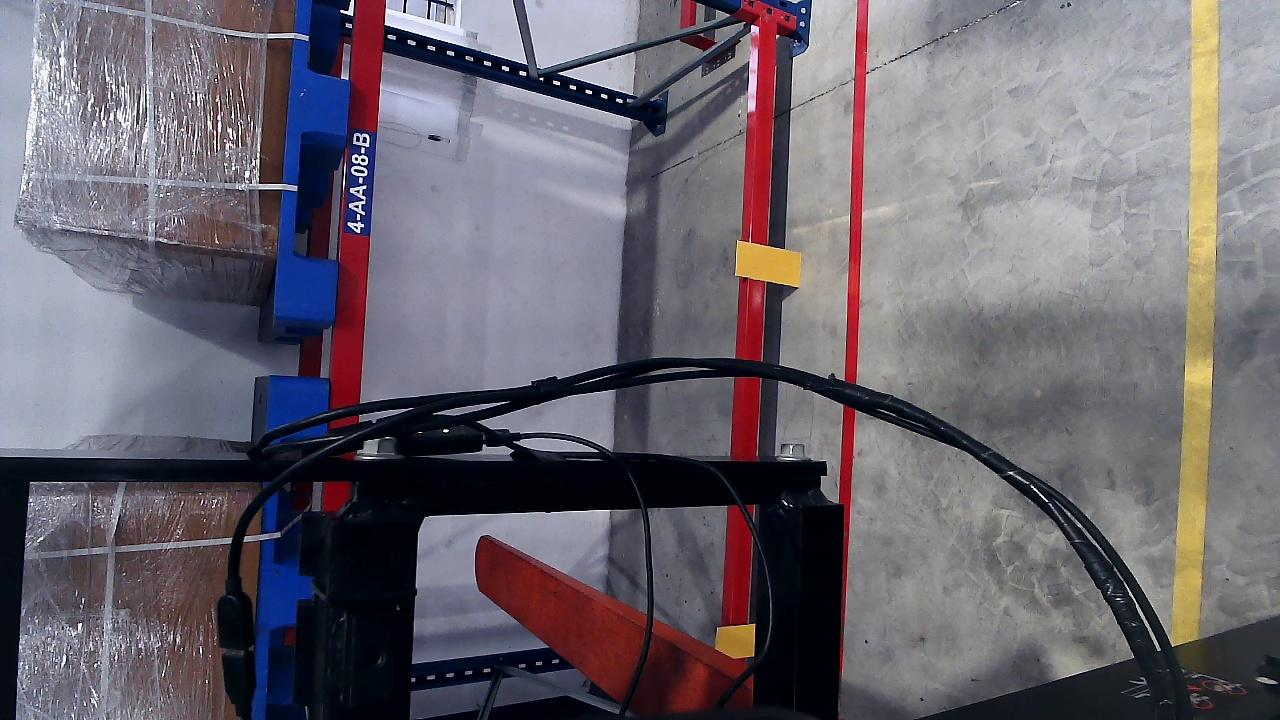h_rack: (328, 0, 389, 409), (743, 16, 780, 354)
orange_strip: (735, 241, 801, 287), (714, 624, 755, 658)
red_line: (843, 2, 868, 381)
small_pallet: (270, 0, 362, 316)
yellow_line: (1172, 55, 1221, 658)
